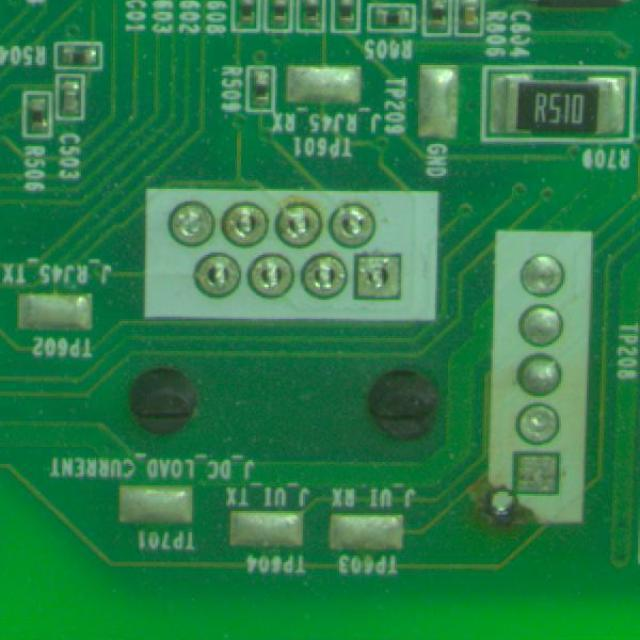Insufficient solder: (348, 250, 410, 310), (164, 194, 218, 252), (192, 250, 246, 306), (301, 251, 351, 306), (248, 250, 292, 308), (218, 200, 274, 243), (272, 204, 326, 248), (333, 204, 384, 247)
